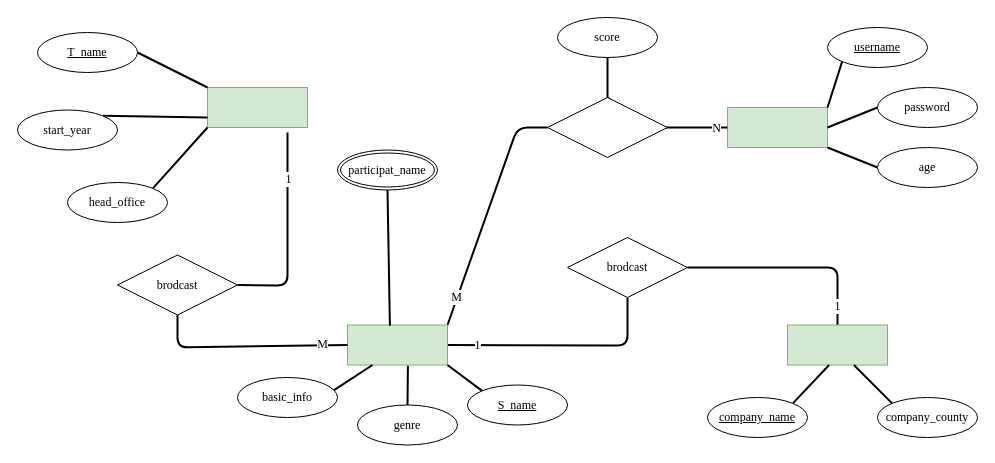
Some shapes in this 995 by 463 pixel diagram are drawn without their labels. Here are the shapes that lost their labels. From the top down, the centre of each, then its label:
point 257,107: Televition
point 607,127: rate
point 777,127: User
point 397,344: Show
point 837,344: Producer
